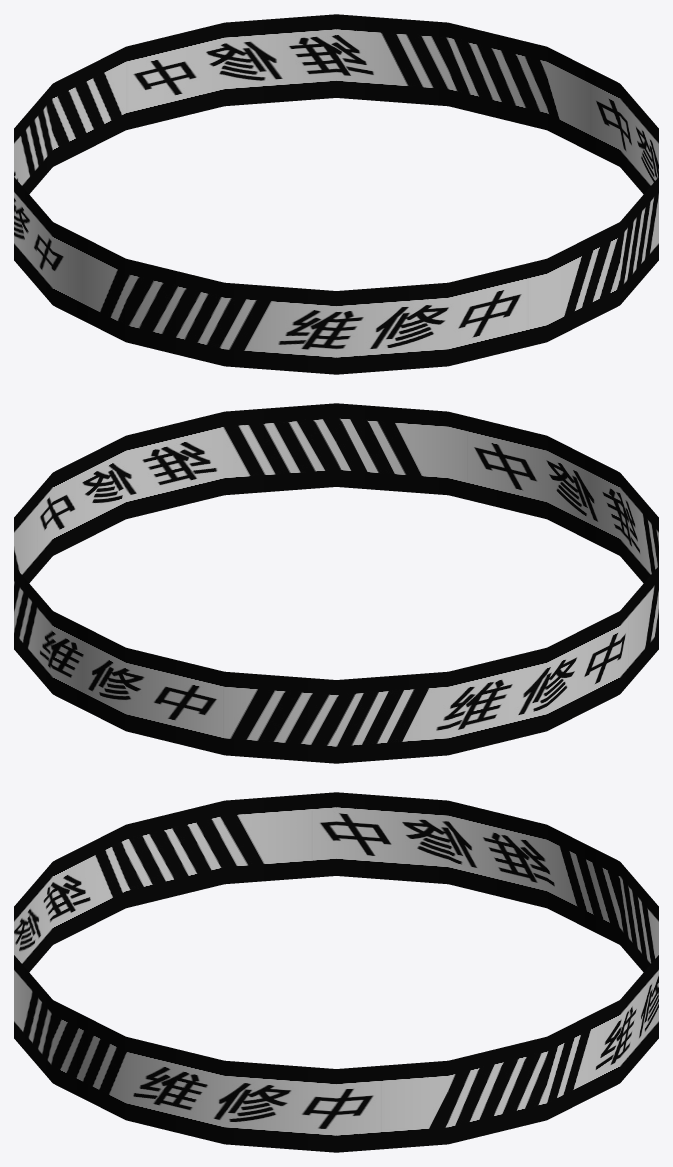
The model's file is xiulihuan.FBX.
3 views of the same model, one above another, from view 1: azimuth 30°, elevation 25°; view 2: azimuth 150°, elevation 25°; view 3: azimuth 270°, elevation 25° (orthographic).
Parts seen in each view (by area): view 1: Cylinder001; view 2: Cylinder001; view 3: Cylinder001.
Part boxes in pixels (bbox=[...]): Cylinder001: bbox=[14, 14, 658, 374]; Cylinder001: bbox=[14, 403, 658, 763]; Cylinder001: bbox=[14, 792, 658, 1152].
Size of the model in its own units: 46.24 by 6.52 by 45.54.
